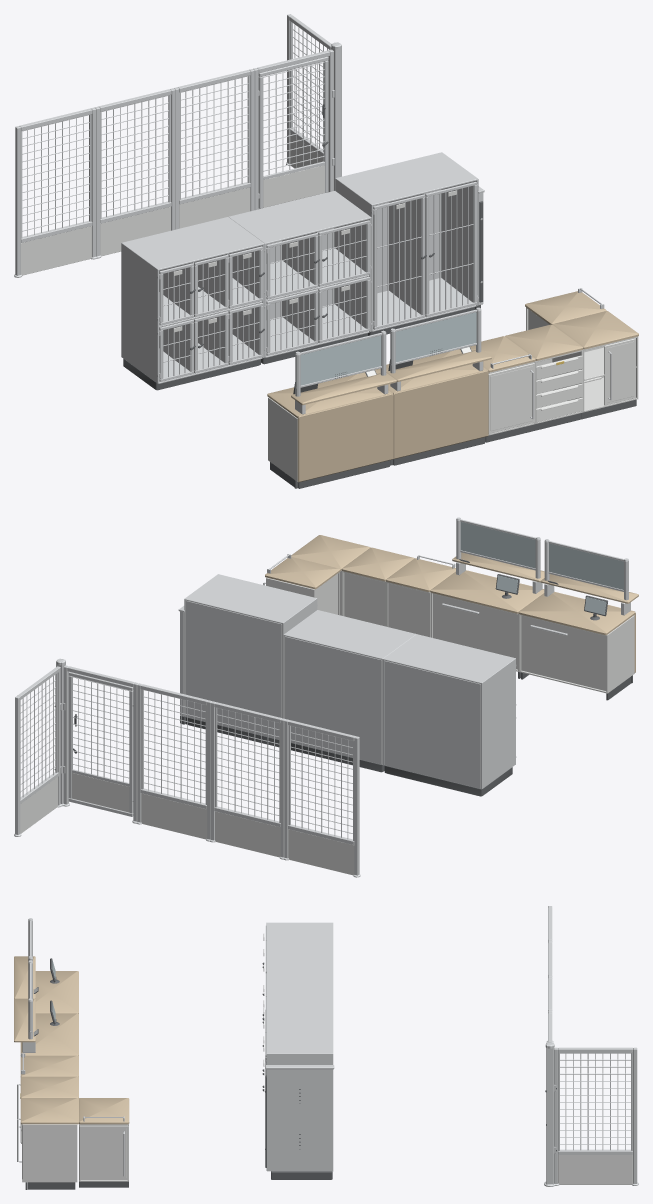
Rendered from clinic-and-veterinary-practice-connector-cases-b4ffedf1__16837.glb.
The picture shows the model from 3 angles, top to bottom: view 1: azimuth 30°, elevation 25°; view 2: azimuth 150°, elevation 25°; view 3: azimuth 270°, elevation 25°; orthographic projection. The views are drawn at different scales.
Visible parts, largest first — view 1: 006-kennel-bank-small/0, 008-kennel-bank-large/0, 007-kennel-bank-medium/0, 000-reception-desk-module/2, 001-reception-desk-module/2, 012-dog-run-panel/0, 011-dog-run-panel/0, 010-dog-run-panel/0, 013-run-gate/gate/metal, 008-kennel-bank-large/door-1/metal, 008-kennel-bank-large/door-2/metal, 002-dispensing-counter-module/door/carcass (+35 smaller); view 2: 006-kennel-bank-small/0, 008-kennel-bank-large/0, 007-kennel-bank-medium/0, 000-reception-desk-module/0, 010-dog-run-panel/0, 011-dog-run-panel/0, 012-dog-run-panel/0, 001-reception-desk-module/0, 013-run-gate/gate/metal, 015-dog-run-panel/0, 000-reception-desk-module/2, 001-reception-desk-module/2 (+22 smaller); view 3: 009-kennel-bank-end-panel/0, 015-dog-run-panel/0, 008-kennel-bank-large/0, 004-dispensing-counter-corner/0, 006-kennel-bank-small/0, 005-dispensing-counter-module/door/carcass, 001-reception-desk-module/2, 000-reception-desk-module/2, 007-kennel-bank-medium/0, 015-dog-run-panel/1, 004-dispensing-counter-corner/4, 005-dispensing-counter-module/4 (+6 smaller).
Part boxes in pixels (left/top/right/bottom): 006-kennel-bank-small/0: left=121, top=217, right=264, bottom=383; 008-kennel-bank-large/0: left=335, top=152, right=478, bottom=331; 007-kennel-bank-medium/0: left=228, top=191, right=371, bottom=357; 000-reception-desk-module/2: left=267, top=372, right=396, bottom=482; 001-reception-desk-module/2: left=364, top=349, right=491, bottom=459; 012-dog-run-panel/0: left=174, top=69, right=254, bottom=229; 011-dog-run-panel/0: left=94, top=88, right=175, bottom=258; 010-dog-run-panel/0: left=14, top=107, right=96, bottom=277; 013-run-gate/gate/metal: left=258, top=56, right=328, bottom=209; 008-kennel-bank-large/door-1/metal: left=373, top=194, right=425, bottom=329; 008-kennel-bank-large/door-2/metal: left=425, top=181, right=476, bottom=317; 002-dispensing-counter-module/door/carcass: left=488, top=363, right=534, bottom=433; 006-kennel-bank-small/0: left=383, top=634, right=516, bottom=788; 008-kennel-bank-large/0: left=184, top=574, right=317, bottom=739; 007-kennel-bank-medium/0: left=283, top=610, right=416, bottom=764; 000-reception-desk-module/0: left=519, top=614, right=634, bottom=693; 010-dog-run-panel/0: left=283, top=719, right=360, bottom=877; 011-dog-run-panel/0: left=210, top=701, right=285, bottom=859; 012-dog-run-panel/0: left=136, top=683, right=212, bottom=841; 001-reception-desk-module/0: left=431, top=592, right=519, bottom=671; 013-run-gate/gate/metal: left=68, top=672, right=133, bottom=816; 015-dog-run-panel/0: left=14, top=666, right=61, bottom=836; 000-reception-desk-module/2: left=518, top=574, right=638, bottom=672; 001-reception-desk-module/2: left=430, top=552, right=544, bottom=613; 009-kennel-bank-end-panel/0: left=265, top=1065, right=334, bottom=1171; 015-dog-run-panel/0: left=554, top=1047, right=638, bottom=1185; 008-kennel-bank-large/0: left=265, top=1006, right=333, bottom=1064; 004-dispensing-counter-corner/0: left=22, top=1124, right=77, bottom=1182; 006-kennel-bank-small/0: left=266, top=922, right=333, bottom=969; 005-dispensing-counter-module/door/carcass: left=79, top=1125, right=128, bottom=1179; 001-reception-desk-module/2: left=14, top=998, right=78, bottom=1055; 000-reception-desk-module/2: left=14, top=956, right=78, bottom=1013; 007-kennel-bank-medium/0: left=266, top=970, right=333, bottom=1006; 015-dog-run-panel/1: left=558, top=1155, right=632, bottom=1184; 004-dispensing-counter-corner/4: left=20, top=1098, right=78, bottom=1124; 005-dispensing-counter-module/4: left=79, top=1098, right=129, bottom=1124.
Bounding box in the file's own units: 4.42 × 1.86 × 7.5.
